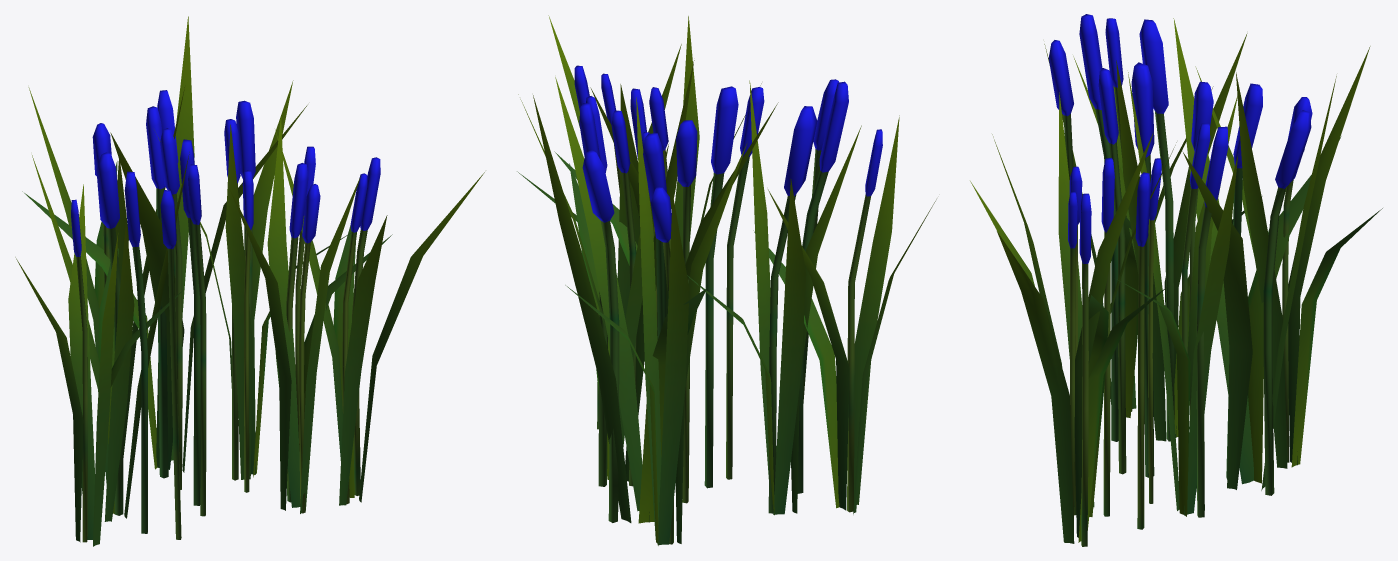
Rendered from Reed Multi.fbx.
3 renders of one model, left to right at view 1: azimuth 30°, elevation 25°; view 2: azimuth 150°, elevation 25°; view 3: azimuth 270°, elevation 25°, orthographic. The views are drawn at different scales.
Visible parts, largest first — view 1: Reed Multi; view 2: Reed Multi; view 3: Reed Multi.
Part boxes in pixels (left/top/right/bottom): Reed Multi: left=15, top=16, right=484, bottom=546; Reed Multi: left=517, top=15, right=936, bottom=545; Reed Multi: left=970, top=14, right=1382, bottom=546.
Size of the model in its own units: 4.34 by 4.06 by 3.42.
